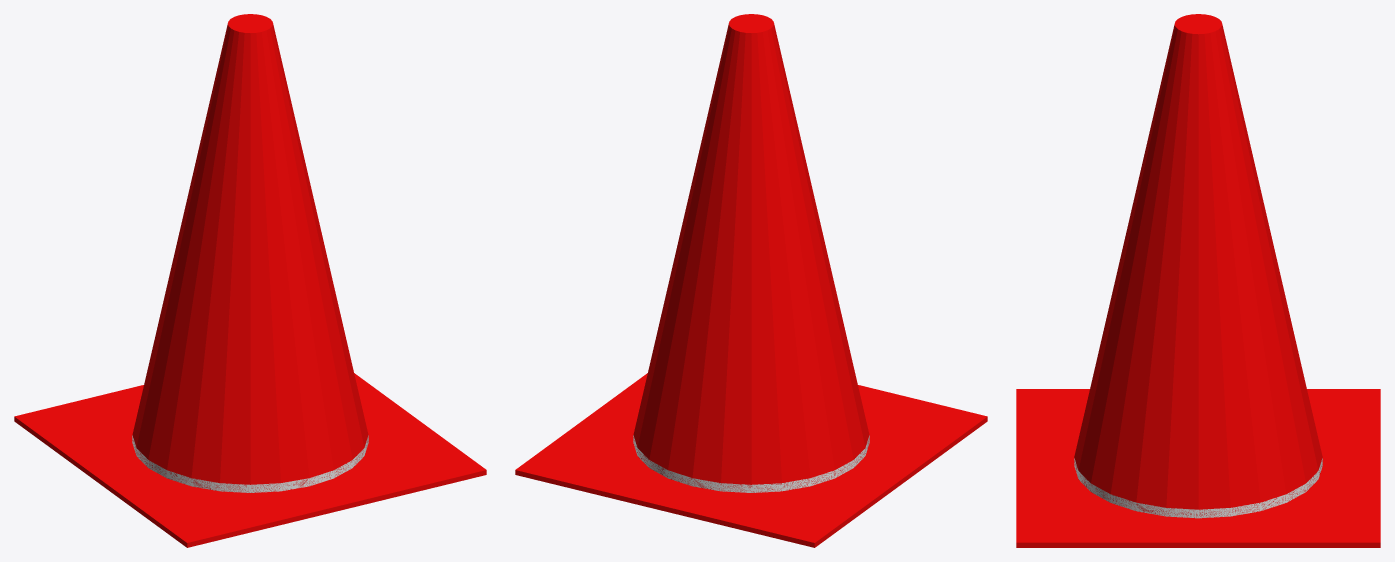
3 views of the same model, side by side, from view 1: azimuth 30°, elevation 25°; view 2: azimuth 150°, elevation 25°; view 3: azimuth 270°, elevation 25° (orthographic). The views are drawn at different scales.
Parts seen in each view (by area): view 1: SketchUp (×2); view 2: SketchUp (×2); view 3: SketchUp (×2).
Part boxes in pixels (x1=…): SketchUp (×2): x1=14, y1=14, x2=486, y2=547; SketchUp (×2): x1=515, y1=14, x2=987, y2=547; SketchUp (×2): x1=1016, y1=14, x2=1380, y2=547.
Size of the model in its own units: 15 by 15 by 20.31.
